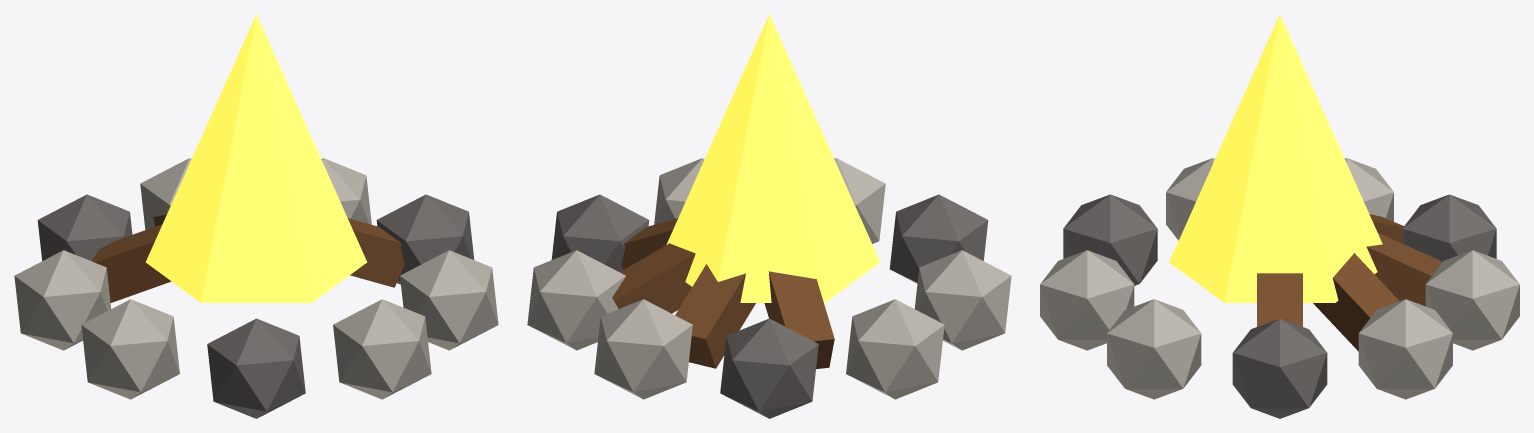
Rendered from campfire.glb.
3 views of the same model, side by side, from view 1: azimuth 30°, elevation 25°; view 2: azimuth 150°, elevation 25°; view 3: azimuth 270°, elevation 25° (orthographic).
Visible parts, largest first — view 1: flame, stone_light, stone_dark, plank_dark; view 2: stone_light, flame, stone_dark, plank_dark; view 3: stone_light, flame, stone_dark, plank_dark.
Boxes of the visible parts, x1=… form: flame: x1=145, y1=14, x2=367, y2=302; stone_light: x1=14, y1=158, x2=498, y2=399; stone_dark: x1=37, y1=194, x2=474, y2=418; plank_dark: x1=92, y1=214, x2=404, y2=302; stone_light: x1=527, y1=158, x2=1011, y2=399; flame: x1=666, y1=14, x2=880, y2=302; stone_dark: x1=551, y1=194, x2=988, y2=418; plank_dark: x1=612, y1=218, x2=834, y2=368; stone_light: x1=1040, y1=158, x2=1519, y2=399; flame: x1=1169, y1=14, x2=1382, y2=302; stone_dark: x1=1063, y1=194, x2=1496, y2=418; plank_dark: x1=1257, y1=214, x2=1442, y2=351.
Bounding box in the file's own units: 0.734 × 0.545 × 0.7355.
